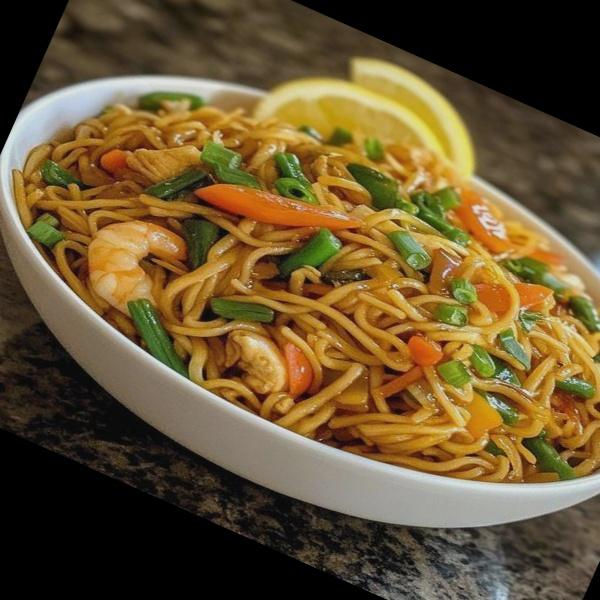pancit bihon: (17, 96, 599, 486)
